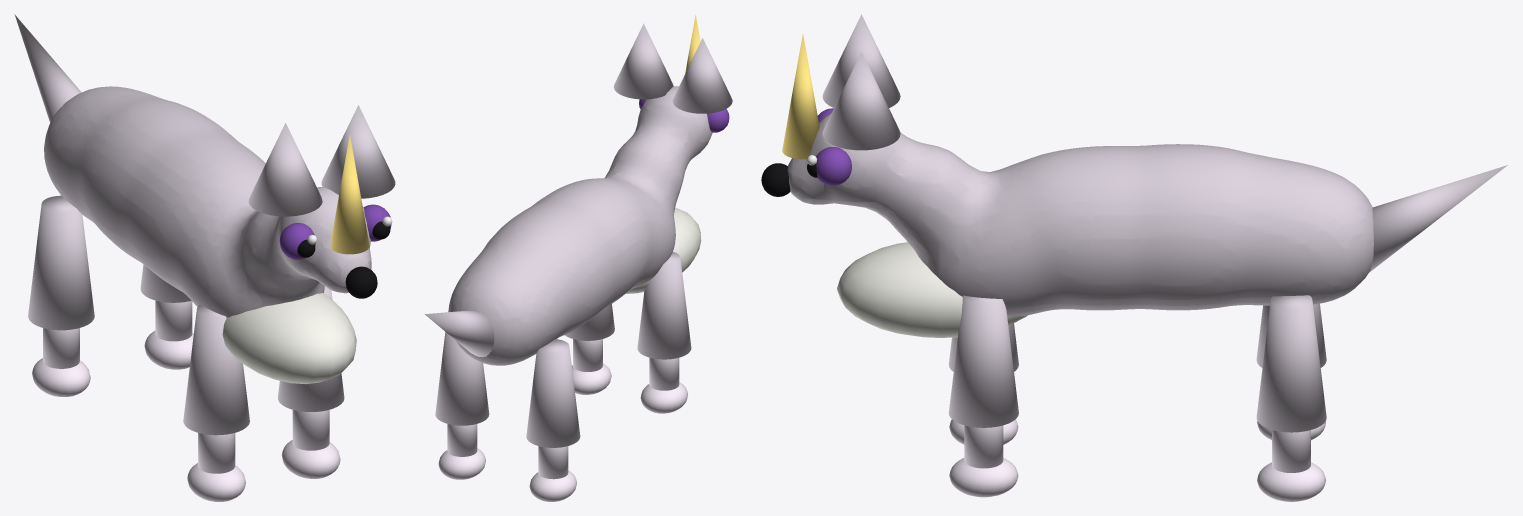
Rendered from Unicorn.obj.
3 renders of one model, left to right at view 1: azimuth 30°, elevation 25°; view 2: azimuth 150°, elevation 25°; view 3: azimuth 270°, elevation 25°, orthographic. The views are drawn at different scales.
Parts seen in each view (by area): view 1: Unicorn; view 2: Unicorn; view 3: Unicorn.
Part boxes in pixels (bbox=[...]): Unicorn: bbox=[14, 14, 395, 501]; Unicorn: bbox=[425, 15, 732, 501]; Unicorn: bbox=[761, 14, 1507, 501].
Size of the model in its own units: 1.59 by 3.7 by 5.74.
